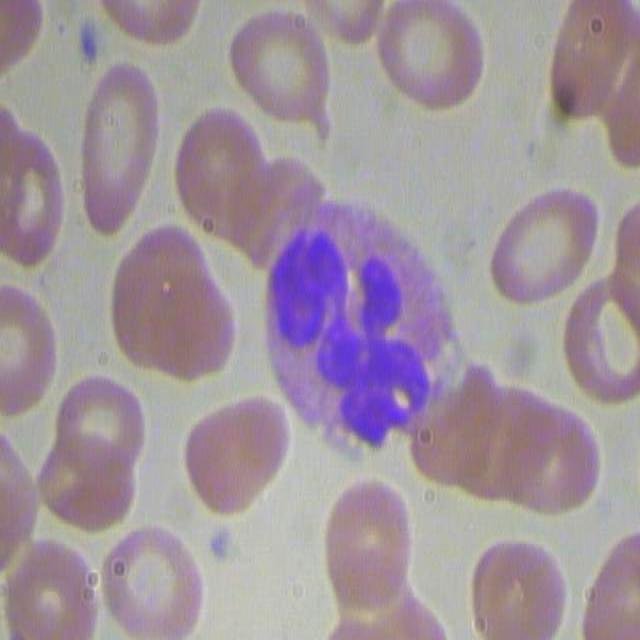RBC: (450, 367, 594, 518), (107, 225, 236, 386), (37, 364, 147, 533), (171, 101, 283, 249), (73, 59, 165, 238), (227, 0, 336, 132), (488, 184, 600, 309), (373, 0, 487, 117), (319, 473, 413, 611), (177, 394, 281, 514), (463, 522, 568, 637), (99, 522, 204, 636), (540, 0, 637, 116), (0, 107, 65, 272), (564, 278, 640, 409), (7, 536, 96, 638), (0, 280, 53, 419), (582, 522, 640, 638), (89, 0, 205, 48), (0, 422, 33, 577), (309, 0, 395, 49), (0, 0, 57, 60)
WBC: (264, 195, 450, 477)
platelets: (203, 526, 236, 564)
